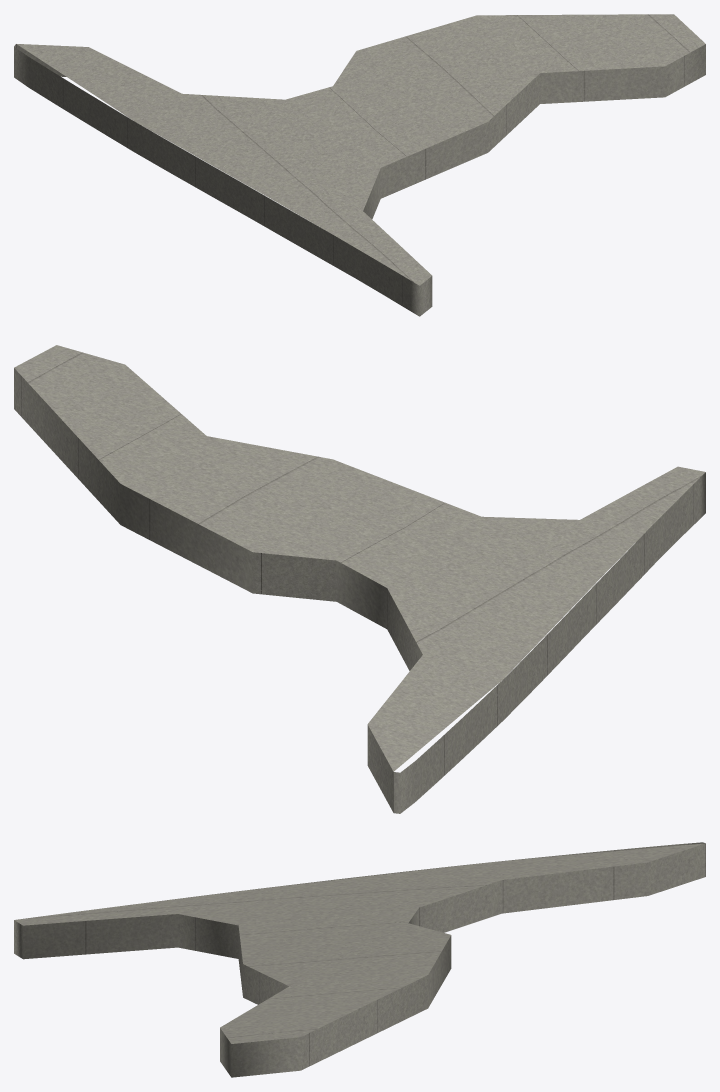
Rendered from curb_11.glb.
3 views of the same model, one above another, from view 1: azimuth 30°, elevation 25°; view 2: azimuth 150°, elevation 25°; view 3: azimuth 270°, elevation 25° (orthographic). The views are drawn at different scales.
Visible parts, largest first — view 1: curb_11.surface, curb_11.sides; view 2: curb_11.surface, curb_11.sides; view 3: curb_11.surface, curb_11.sides.
Boxes of the visible parts, x1,y1,x2,y2 form: curb_11.surface: [17, 14, 705, 285]; curb_11.sides: [14, 44, 705, 316]; curb_11.surface: [14, 345, 705, 771]; curb_11.sides: [14, 368, 705, 813]; curb_11.surface: [14, 843, 705, 1043]; curb_11.sides: [14, 842, 705, 1077].
Bounding box in the file's own units: 2.57 × 0.577 × 2.99.
1 material, 1 textured.
